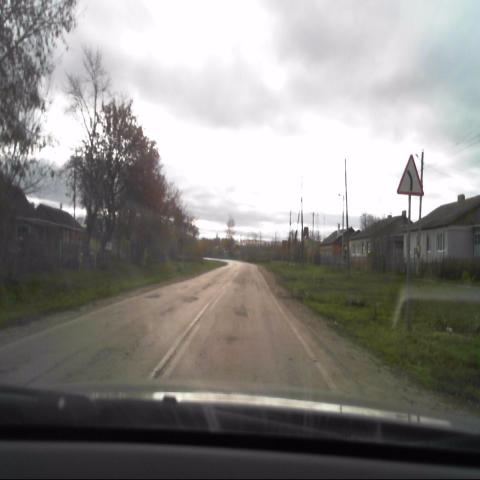1_11_1: (394, 154, 425, 198)
